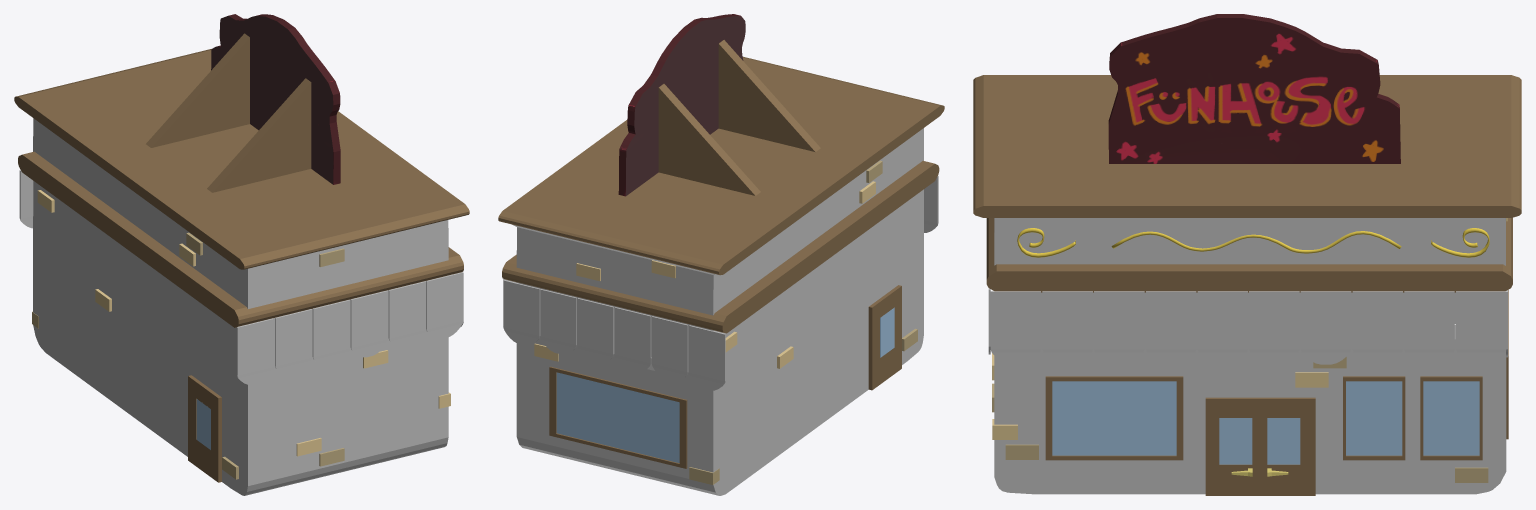
Rendered from Company1.fbx.
3 renders of one model, left to right at view 1: azimuth 30°, elevation 25°; view 2: azimuth 150°, elevation 25°; view 3: azimuth 270°, elevation 25°, orthographic. The views are drawn at different scales.
Visible parts, largest first — view 1: Cube.001, Cube.002, Cube.003, Cube.030, Cube.131, Cube.130, Cube.128, Cube.021, Cube.023, Cube.022, Cube.018, Cube.020 (+3 smaller); view 2: Cube.001, Cube.002, Cube.003, Cube.030, Cube.147, Cube.130, Cube.131, Cube.128, Cube.148, Cube.017, Cube.026, Cube.028 (+5 smaller); view 3: Cube.001, Cube.002, Cube.030, Cube.003, Cube.007, Cube.004, Cube.143, Cube.145, Cube.013, Cube.010, Cube.014, Cube.008 (+12 smaller).
Part boxes in pixels (<box>): Cube.001: <box>33,118,448,495</box>; Cube.002: <box>14,49,469,269</box>; Cube.003: <box>18,151,463,327</box>; Cube.030: <box>211,14,340,184</box>; Cube.131: <box>207,78,311,192</box>; Cube.130: <box>146,33,249,147</box>; Cube.128: <box>188,375,221,482</box>; Cube.021: <box>350,290,387,357</box>; Cube.023: <box>275,309,312,375</box>; Cube.022: <box>312,300,349,366</box>; Cube.018: <box>426,272,463,338</box>; Cube.020: <box>388,281,425,347</box>; Cube.001: <box>512,128,923,495</box>; Cube.002: <box>498,56,944,275</box>; Cube.003: <box>502,161,939,333</box>; Cube.030: <box>618,14,745,196</box>; Cube.147: <box>556,372,679,462</box>; Cube.130: <box>658,84,760,195</box>; Cube.131: <box>718,40,820,151</box>; Cube.128: <box>868,285,901,390</box>; Cube.148: <box>549,366,687,468</box>; Cube.017: <box>503,280,540,345</box>; Cube.026: <box>577,298,614,363</box>; Cube.028: <box>651,316,688,381</box>; Cube.001: <box>994,218,1506,494</box>; Cube.002: <box>973,75,1521,217</box>; Cube.030: <box>1108,14,1400,163</box>; Cube.003: <box>986,217,1512,292</box>; Cube.007: <box>1052,381,1176,455</box>; Cube.004: <box>1205,397,1315,495</box>; Cube.143: <box>1346,381,1402,455</box>; Cube.145: <box>1423,381,1479,455</box>; Cube.013: <box>1300,291,1351,364</box>; Cube.010: <box>1146,291,1196,364</box>; Cube.014: <box>1352,291,1402,364</box>; Cube.008: <box>1042,291,1092,364</box>.
Bounding box in the file's own units: 2.26 × 3.97 × 3.53.
